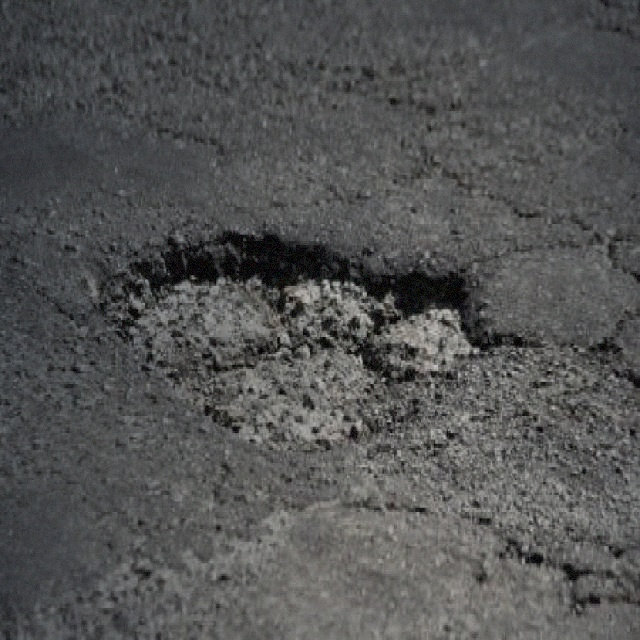pothole: (95, 224, 499, 457)
